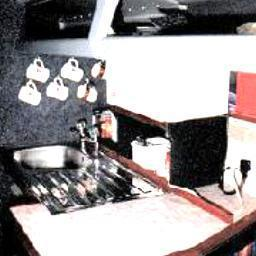Lavaplatos: (17, 103, 145, 204)
